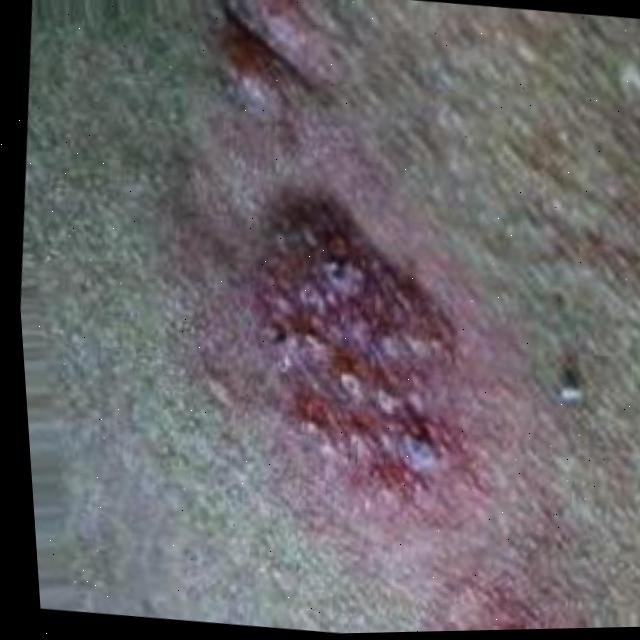Shingles: (257, 192, 468, 487)
